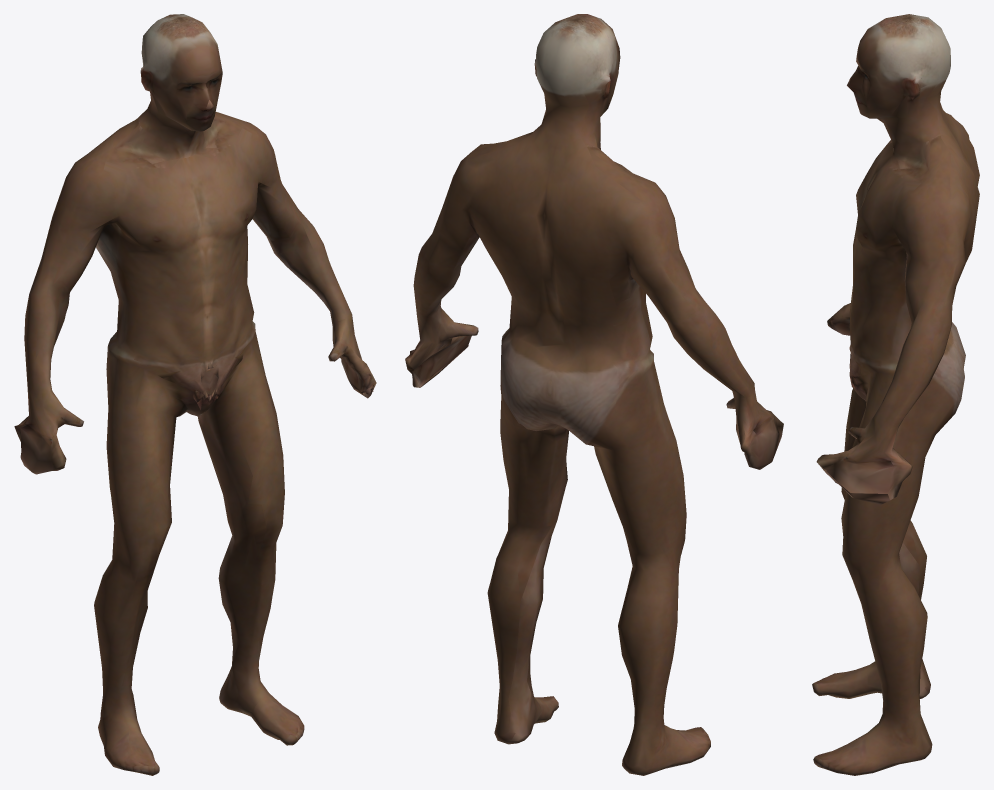
Rendered from PlayerCharacter.fbx.
3 views of the same model, side by side, from view 1: azimuth 30°, elevation 25°; view 2: azimuth 150°, elevation 25°; view 3: azimuth 270°, elevation 25° (orthographic). The views are drawn at different scales.
Visible parts, largest first — view 1: PlayerObect; view 2: PlayerObect; view 3: PlayerObect.
Part boxes in pixels (box(x1,y1,x2,y2)): PlayerObect: box(14, 14, 376, 775); PlayerObect: box(405, 14, 783, 775); PlayerObect: box(812, 14, 979, 775).
Bounding box in the file's own units: 157 × 318 × 67.41.
Materials: 1 (1 with a texture image).
